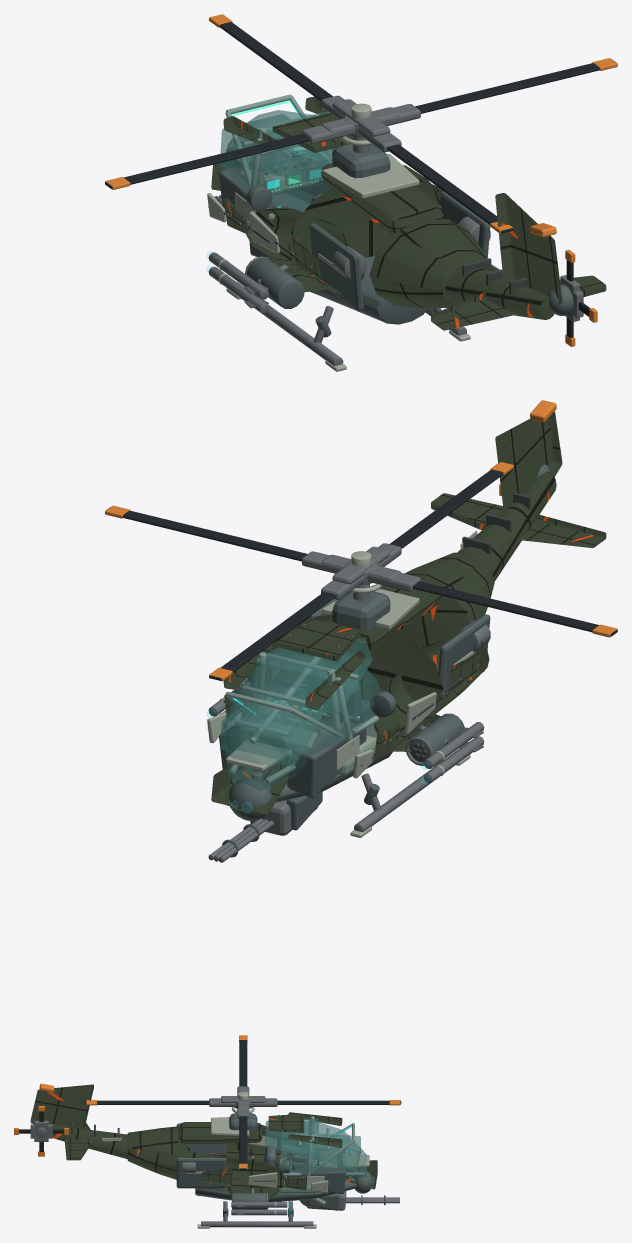
The model's file is pass65-chopper-gunner-lod0.glb.
3 renders of one model, top to bottom at view 1: azimuth 30°, elevation 25°; view 2: azimuth 150°, elevation 25°; view 3: azimuth 270°, elevation 25°, orthographic. The views are drawn at different scales.
Parts seen in each view (by area): view 1: Chopper_TailRootCollar_LOD0, Chopper_CanopyGlass_LOD0, Chopper_TailFin_LOD0, Chopper_RearCabin_LOD0, Chopper_TailBoom_LOD0, Chopper_MainBlade_2_LOD0, Chopper_MainBlade_1_LOD0, Chopper_RearEngineCowling_LOD0, Chopper_MainBlade_3_LOD0, Chopper_TandemPilotCanopy_LOD0, Chopper_RearArmorDoor_-1_LOD0, Chopper_VentralKeel_LOD0 (+24 smaller); view 2: Chopper_CanopyGlass_LOD0, Chopper_TandemGunnerCanopy_LOD0, Chopper_TailRootCollar_LOD0, Chopper_TaperedFuselage_LOD0, Chopper_TandemPilotCanopy_LOD0, Chopper_TailFin_LOD0, Chopper_TailBoom_LOD0, Chopper_MainBlade_3_LOD0, Chopper_CheekArmor_-1_LOD0, Chopper_MainBlade_0_LOD0, Chopper_CanopyRoofArmor_LOD0, Chopper_EnginePod_-1_LOD0 (+18 smaller); view 3: Chopper_CanopyGlass_LOD0, Chopper_TailRootCollar_LOD0, Chopper_TailFin_LOD0, Chopper_TailBoom_LOD0, Chopper_TandemPilotCanopy_LOD0, Chopper_RearArmorDoor_1_LOD0, Chopper_EnginePod_1_LOD0, Chopper_TandemGunnerCanopy_LOD0, Chopper_MainBlade_2_LOD0, Chopper_VentralKeel_LOD0, Chopper_RearEngineCowling_LOD0, Chopper_CheekArmor_1_LOD0 (+26 smaller).
Boxes of the visible parts, <box> form: Chopper_TailRootCollar_LOD0: <box>369,219,486,308</box>; Chopper_CanopyGlass_LOD0: <box>223,110,333,215</box>; Chopper_TailFin_LOD0: <box>495,193,562,306</box>; Chopper_RearCabin_LOD0: <box>287,176,475,305</box>; Chopper_TailBoom_LOD0: <box>445,266,553,319</box>; Chopper_MainBlade_2_LOD0: <box>219,22,511,232</box>; Chopper_MainBlade_1_LOD0: <box>105,63,596,188</box>; Chopper_RearEngineCowling_LOD0: <box>351,186,444,234</box>; Chopper_MainBlade_3_LOD0: <box>105,59,617,187</box>; Chopper_TandemPilotCanopy_LOD0: <box>250,111,334,182</box>; Chopper_RearArmorDoor_-1_LOD0: <box>309,223,363,311</box>; Chopper_VentralKeel_LOD0: <box>273,191,428,324</box>; Chopper_CanopyGlass_LOD0: <box>224,649,380,790</box>; Chopper_TandemGunnerCanopy_LOD0: <box>220,679,325,766</box>; Chopper_TailRootCollar_LOD0: <box>399,552,494,647</box>; Chopper_TaperedFuselage_LOD0: <box>226,615,443,811</box>; Chopper_TandemPilotCanopy_LOD0: <box>250,638,372,714</box>; Chopper_TailFin_LOD0: <box>495,411,562,511</box>; Chopper_TailBoom_LOD0: <box>457,471,556,581</box>; Chopper_MainBlade_3_LOD0: <box>109,507,617,636</box>; Chopper_CheekArmor_-1_LOD0: <box>287,721,366,798</box>; Chopper_MainBlade_0_LOD0: <box>209,469,503,680</box>; Chopper_CanopyRoofArmor_LOD0: <box>272,619,360,661</box>; Chopper_EnginePod_-1_LOD0: <box>373,636,489,736</box>; Chopper_CanopyGlass_LOD0: <box>280,1121,366,1179</box>; Chopper_TailRootCollar_LOD0: <box>127,1126,178,1179</box>; Chopper_TailFin_LOD0: <box>30,1084,93,1129</box>; Chopper_TailBoom_LOD0: <box>48,1123,127,1159</box>; Chopper_TandemPilotCanopy_LOD0: <box>265,1118,318,1158</box>; Chopper_RearArmorDoor_1_LOD0: <box>176,1158,226,1188</box>; Chopper_EnginePod_1_LOD0: <box>193,1156,284,1189</box>; Chopper_TandemGunnerCanopy_LOD0: <box>310,1133,360,1171</box>; Chopper_MainBlade_2_LOD0: <box>85,1100,400,1104</box>; Chopper_VentralKeel_LOD0: <box>195,1176,356,1201</box>; Chopper_RearEngineCowling_LOD0: <box>179,1122,226,1143</box>; Chopper_CheekArmor_1_LOD0: <box>287,1165,345,1193</box>.
Bounding box in the file's own units: 7.45 × 3.28 × 14.25.
19 materials, 1 textured.
